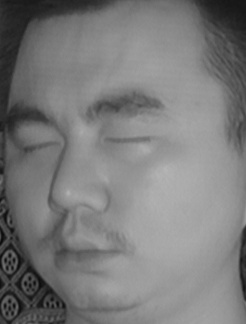blink: (102, 120, 158, 157), (15, 127, 64, 163)
mouth: (47, 225, 126, 279)
